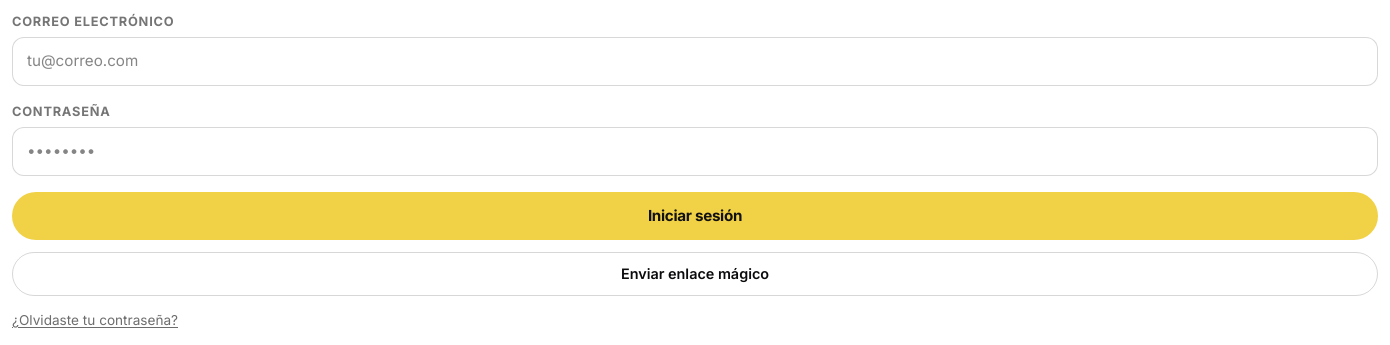
Test: MembershipLoginPanel — magic link › shows a confirmation message after the link is sent
Type "cliente@example.com" into the field with placeholder "tu@correo.com".
click(695, 62); type("cliente@example.com")  # box [12, 37, 1378, 86]
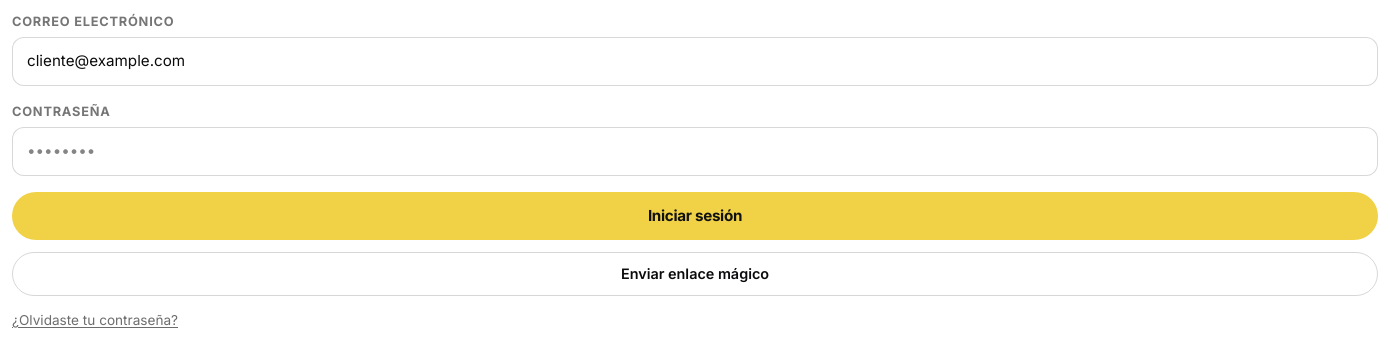
Click the button "Enviar enlace mágico".
click(695, 274)  # box [12, 252, 1378, 296]
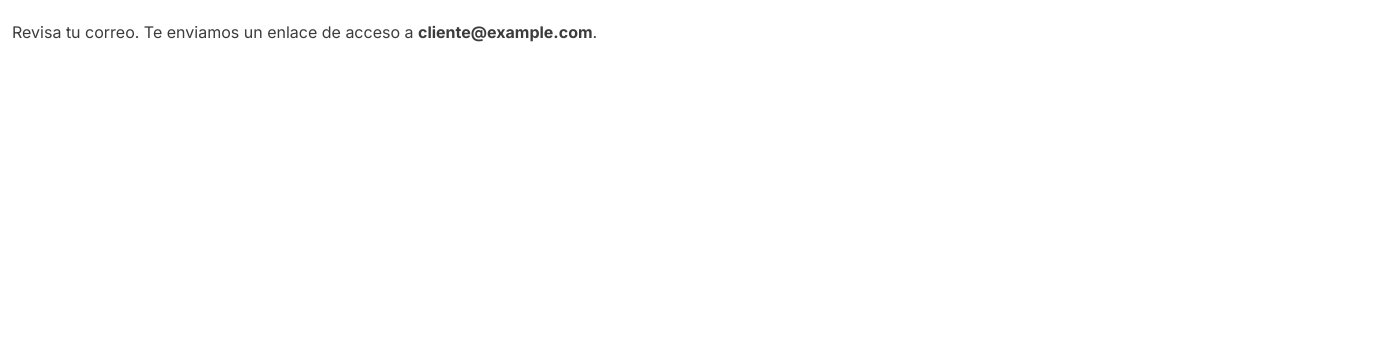
Expected: the text "Revisa tu correo" is shown, [12, 22, 418, 42]
